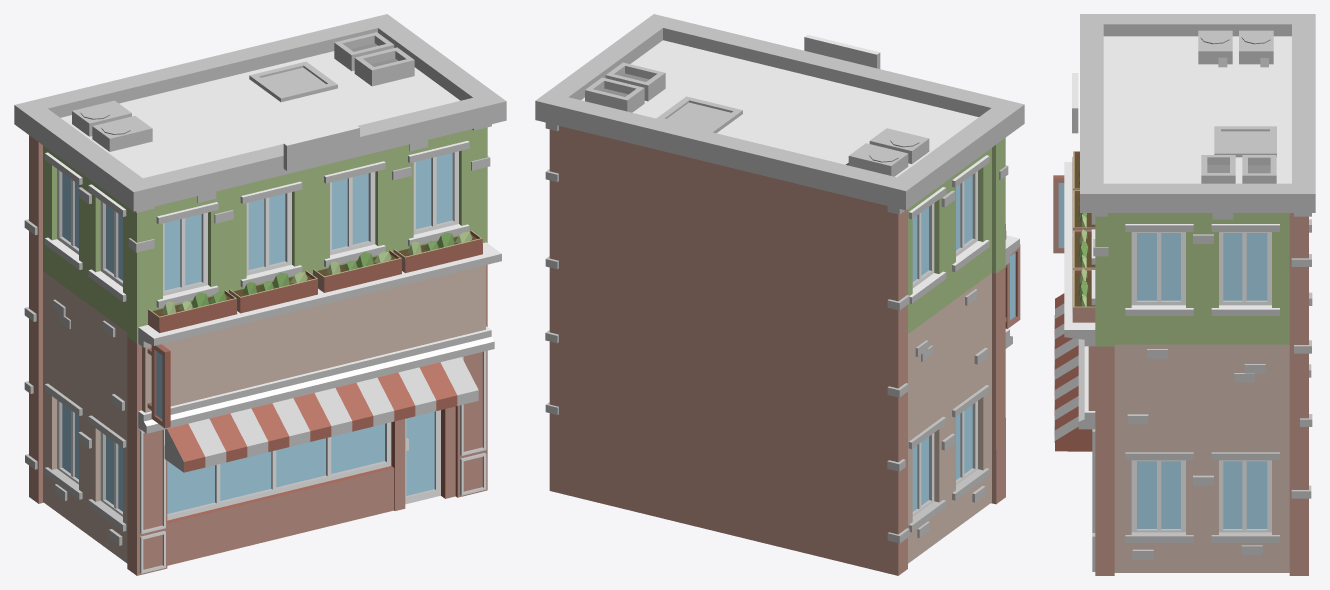
File: house_small_2_006.fbx
3 views of the same model, side by side, from view 1: azimuth 30°, elevation 25°; view 2: azimuth 150°, elevation 25°; view 3: azimuth 270°, elevation 25° (orthographic).
Visible parts, largest first — view 1: house_small_2_006; view 2: house_small_2_006; view 3: house_small_2_006.
Boxes of the visible parts, box(x1,y1,x2,y2) form: house_small_2_006: box(14, 14, 506, 575); house_small_2_006: box(535, 14, 1024, 575); house_small_2_006: box(1053, 14, 1315, 575).
Bounding box in the file's own units: 720 × 748 × 444.
